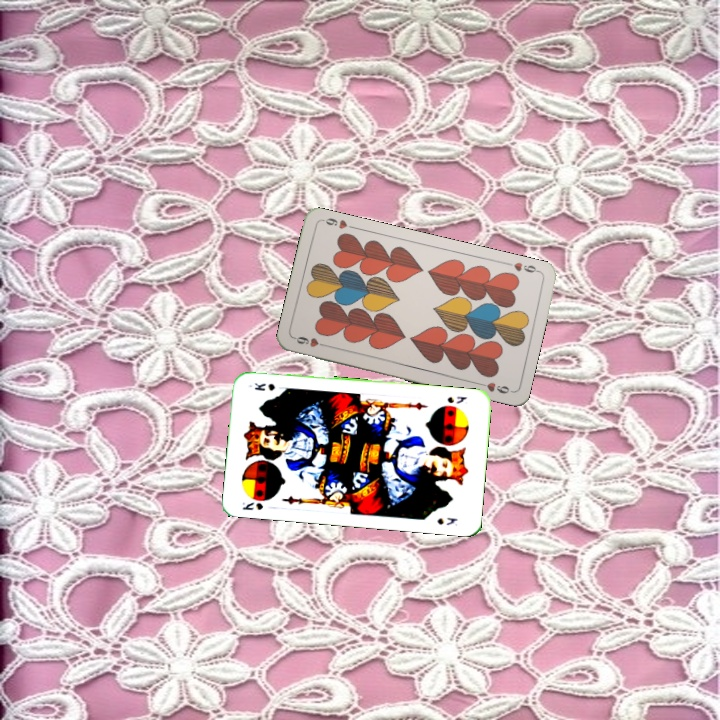H9: (291, 332, 331, 350), (510, 258, 542, 275)
SK: (238, 498, 265, 513), (443, 392, 470, 406)
